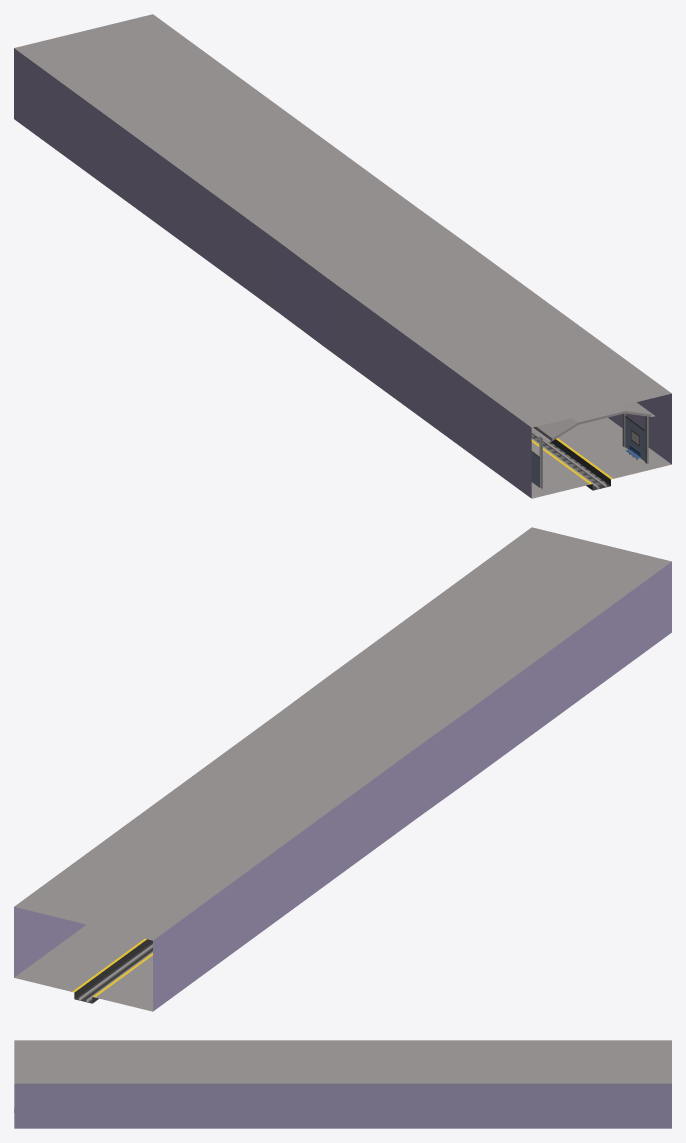
File: Subway 3.fbx
3 renders of one model, top to bottom at view 1: azimuth 30°, elevation 25°; view 2: azimuth 150°, elevation 25°; view 3: azimuth 270°, elevation 25°, orthographic. The views are drawn at different scales.
Parts seen in each view (by area): view 1: Subway; view 2: Subway; view 3: Subway.
Part boxes in pixels (x1,y1,x2,y2): Subway: [14, 14, 671, 498]; Subway: [14, 527, 671, 1011]; Subway: [14, 1040, 671, 1128].
Size of the model in its own units: 2199 by 1166 by 14086.
